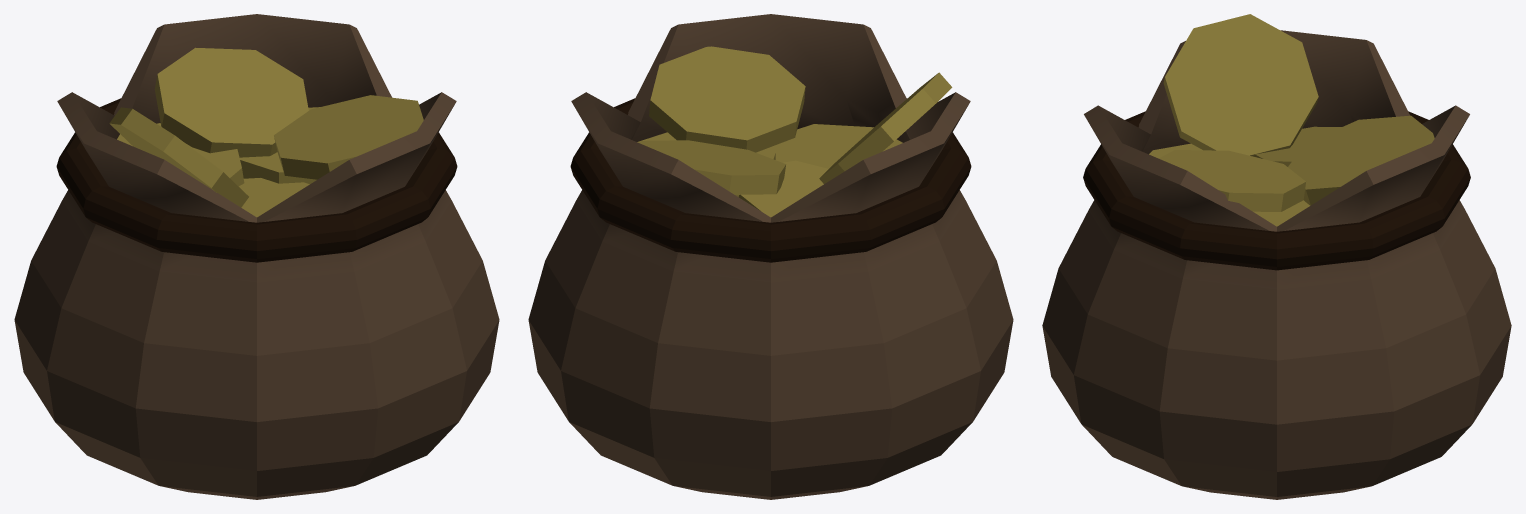
Rendered from coins2.fbx.
3 renders of one model, left to right at view 1: azimuth 30°, elevation 25°; view 2: azimuth 150°, elevation 25°; view 3: azimuth 270°, elevation 25°, orthographic. The views are drawn at different scales.
Parts seen in each view (by area): view 1: CoinPouch, TokenPile; view 2: CoinPouch, TokenPile; view 3: CoinPouch, TokenPile.
Boxes of the visible parts, bbox=[...] form: CoinPouch: bbox=[14, 14, 499, 499]; TokenPile: bbox=[109, 47, 423, 217]; CoinPouch: bbox=[528, 14, 1013, 499]; TokenPile: bbox=[637, 46, 952, 217]; CoinPouch: bbox=[1042, 30, 1511, 499]; TokenPile: bbox=[1149, 14, 1434, 226].
Size of the model in its own units: 24.2 by 21.56 by 24.2.
